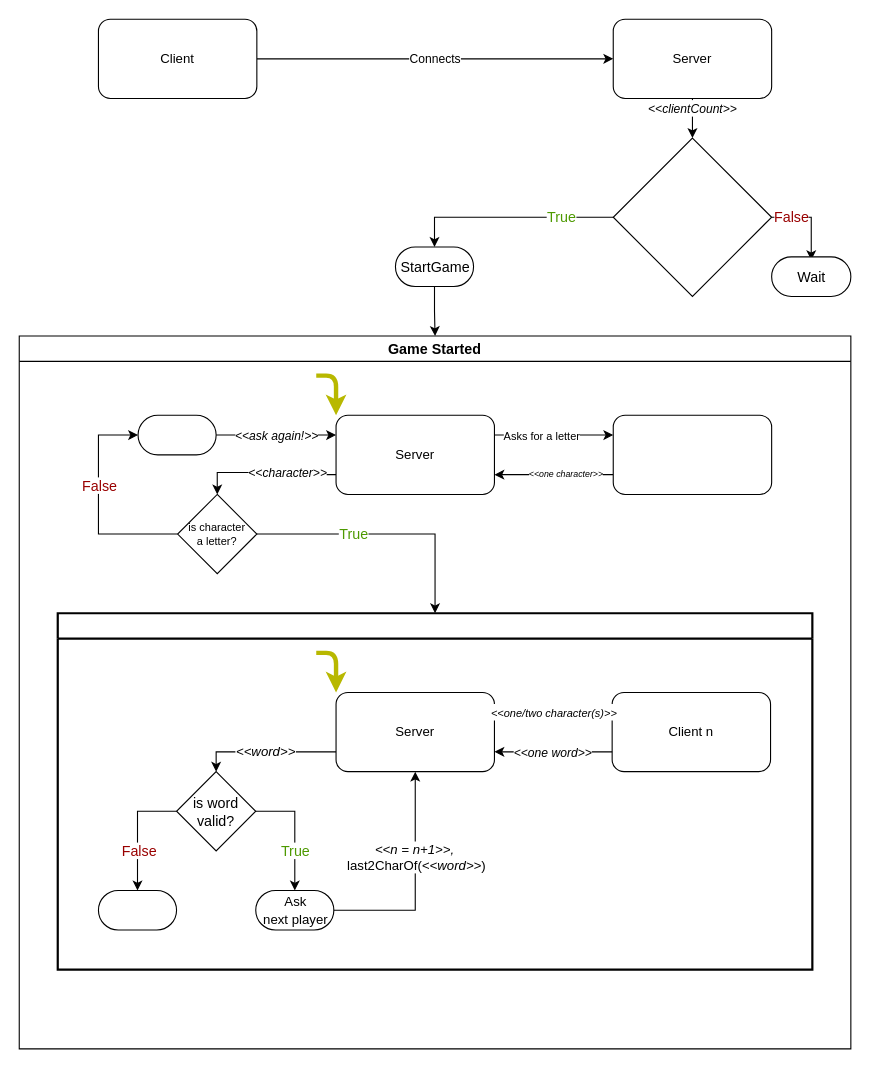
Some shapes in this 870 by 1068 pixel diagram are drawn without their labels. The box of each missing label's shape, as (x1, y1, x2, y2) in pixels:
Ask again: (137, 414, 216, 455)
Client 1: (612, 414, 772, 494)
Game Loop: (56, 612, 813, 970)
is clientCount equal to maxClientCount?: (612, 137, 772, 296)
Kick Client n: (97, 889, 177, 930)
